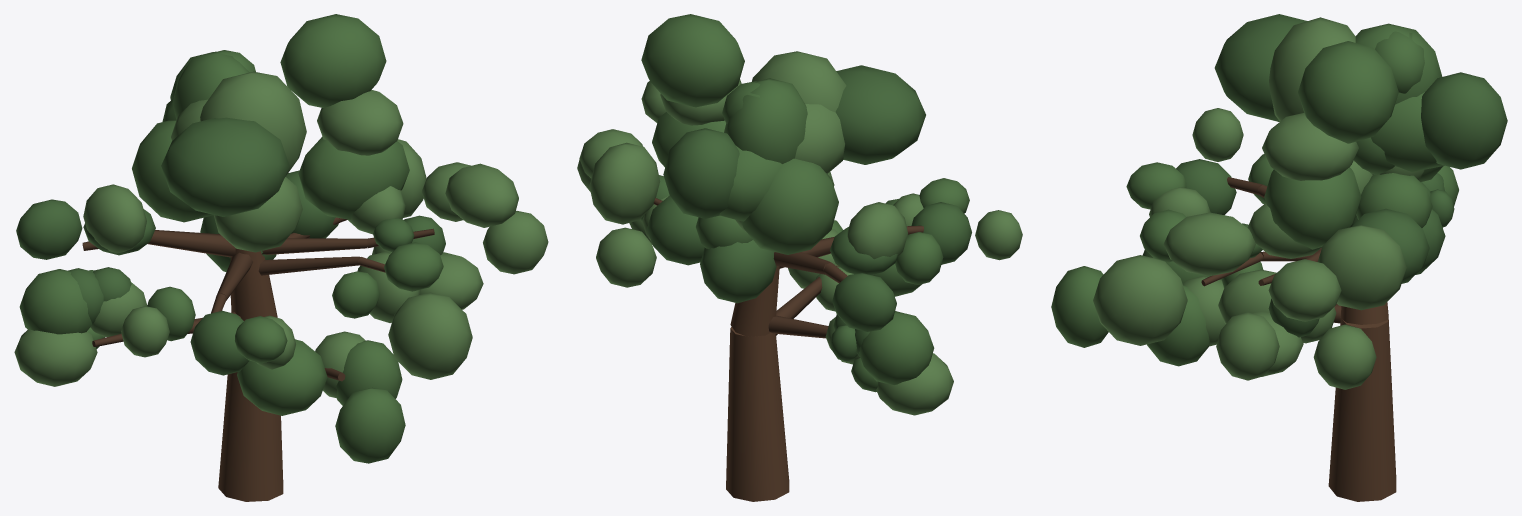
Rendered from tree_oak_mid.glb.
3 renders of one model, left to right at view 1: azimuth 30°, elevation 25°; view 2: azimuth 150°, elevation 25°; view 3: azimuth 270°, elevation 25°, orthographic. The views are drawn at different scales.
Size of the model in its own units: 8.38 by 8.15 by 7.04.
